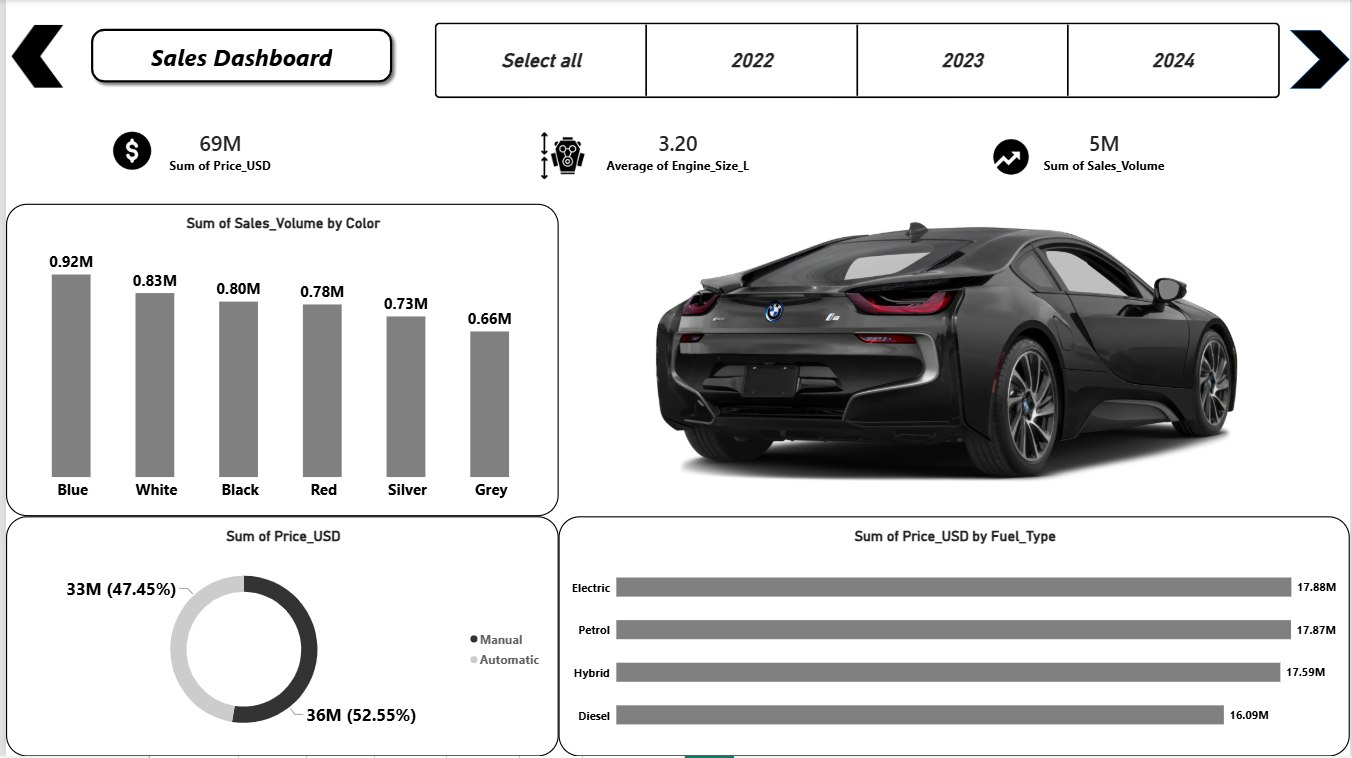

What the dashboard file says about the page in this screenshot:
{"tool":"powerbi","page":{"name":"i8","canvas":[1920,1080],"ordinal":5},"visuals":[{"type":"shape","box":[112.5,32.1,448.2,94.6],"z":0},{"type":"advancedSlicerVisual","fields":{"Values":["BMW_Car_Sales_Classification - BMW_Car_Sales_Classification.Year"]},"box":[612.5,32.1,1208.9,108.9],"z":1000},{"type":"cardVisual","fields":{"Data":["Sum(BMW_Car_Sales_Classification - BMW_Car_Sales_Classification.Price_USD)"]},"box":[82.1,141.1,448,150],"z":2000},{"type":"cardVisual","fields":{"Data":["Sum(BMW_Car_Sales_Classification - BMW_Car_Sales_Classification.Sales_Volume)"]},"box":[1344.6,141.1,448,150],"z":3000},{"type":"cardVisual","fields":{"Data":["Avg(BMW_Car_Sales_Classification - BMW_Car_Sales_Classification.Engine_Size_L)"]},"box":[735.7,141.1,448,150],"z":4000},{"type":"image","box":[148.2,185.7,64.3,58.9],"z":5000},{"type":"image","box":[703.6,185.7,183.9,73.2],"z":6000},{"type":"image","box":[1405.4,185.7,60.7,76.8],"z":7000},{"type":"image","box":[835.7,216.1,1016.1,575],"z":8000},{"type":"columnChart","fields":{"Category":["BMW_Car_Sales_Classification - BMW_Car_Sales_Classification.Color"],"Y":["Sum(BMW_Car_Sales_Classification - BMW_Car_Sales_Classification.Sales_Volume)"]},"box":[0,291.1,789.3,446.4],"z":9000},{"type":"donutChart","title":"Sum of Price_USD ","fields":{"Category":["BMW_Car_Sales_Classification - BMW_Car_Sales_Classification.Transmission"],"Y":["Sum(BMW_Car_Sales_Classification - BMW_Car_Sales_Classification.Price_USD)"]},"box":[0,737.5,789.3,342.9],"z":10000},{"type":"barChart","fields":{"Category":["BMW_Car_Sales_Classification - BMW_Car_Sales_Classification.Fuel_Type"],"Y":["Sum(BMW_Car_Sales_Classification - BMW_Car_Sales_Classification.Price_USD)"]},"box":[789.3,737.5,1130.4,342.9],"z":11000},{"type":"shape","box":[1833.9,42.9,85.7,83.9],"z":11001},{"type":"image","box":[0,19.6,89.3,121.4],"z":11002}]}

Visuals, with their boxes in screenshot pixels (x1, y1, x2, y2), scaled from the page's 1920x1080 canvas onto the 1352x758 screenshot:
shape: region(79, 23, 395, 89)
advancedSlicerVisual - BMW_Car_Sales_Classification - BMW_Car_Sales_Classification.Year: region(431, 23, 1283, 99)
cardVisual - Sum(BMW_Car_Sales_Classification - BMW_Car_Sales_Classification.Price_USD): region(58, 99, 373, 204)
cardVisual - Sum(BMW_Car_Sales_Classification - BMW_Car_Sales_Classification.Sales_Volume): region(947, 99, 1262, 204)
cardVisual - Avg(BMW_Car_Sales_Classification - BMW_Car_Sales_Classification.Engine_Size_L): region(518, 99, 834, 204)
image: region(104, 130, 150, 172)
image: region(495, 130, 625, 182)
image: region(990, 130, 1032, 184)
image: region(588, 152, 1304, 555)
columnChart - BMW_Car_Sales_Classification - BMW_Car_Sales_Classification.Color x Sum(BMW_Car_Sales_Classification - BMW_Car_Sales_Classification.Sales_Volume): region(0, 204, 556, 518)
"Sum of Price_USD " donutChart: region(0, 518, 556, 757)
barChart - BMW_Car_Sales_Classification - BMW_Car_Sales_Classification.Fuel_Type x Sum(BMW_Car_Sales_Classification - BMW_Car_Sales_Classification.Price_USD): region(556, 518, 1351, 757)
shape: region(1291, 30, 1351, 89)
image: region(0, 14, 63, 99)
